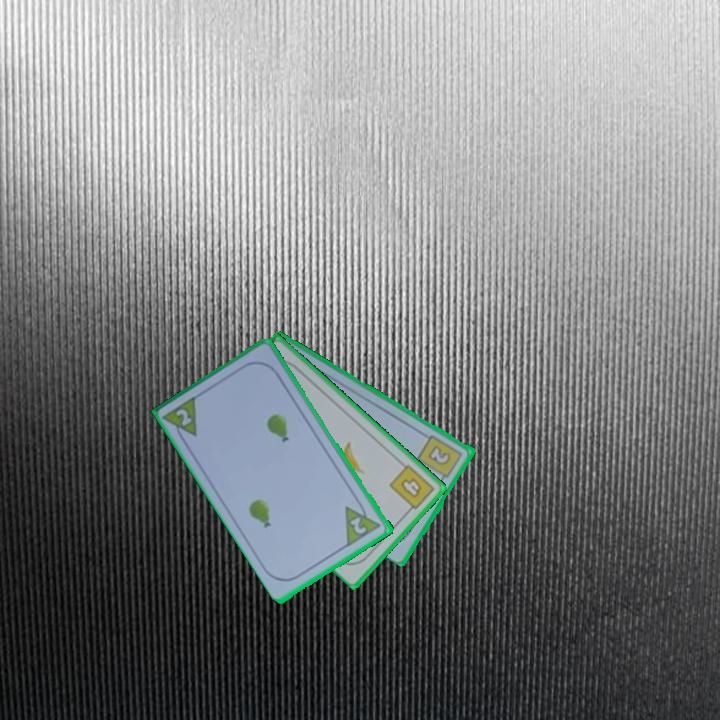2b: (414, 431, 466, 485)
2p: (341, 496, 385, 548), (172, 405, 195, 429)
4b: (386, 461, 438, 516)
